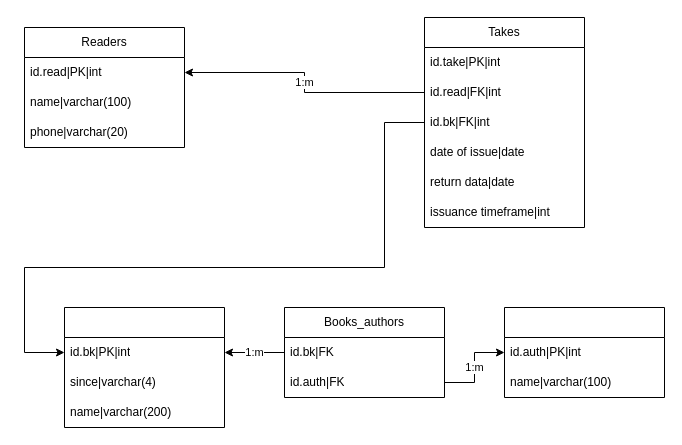
Some shapes in this 682 by 445 pixel diagram are drawn without their labels. The box of each missing label's shape, as (x1, y1, x2, y2) in pixels:
Authors: (504, 306, 664, 398)
Books: (64, 306, 224, 428)
